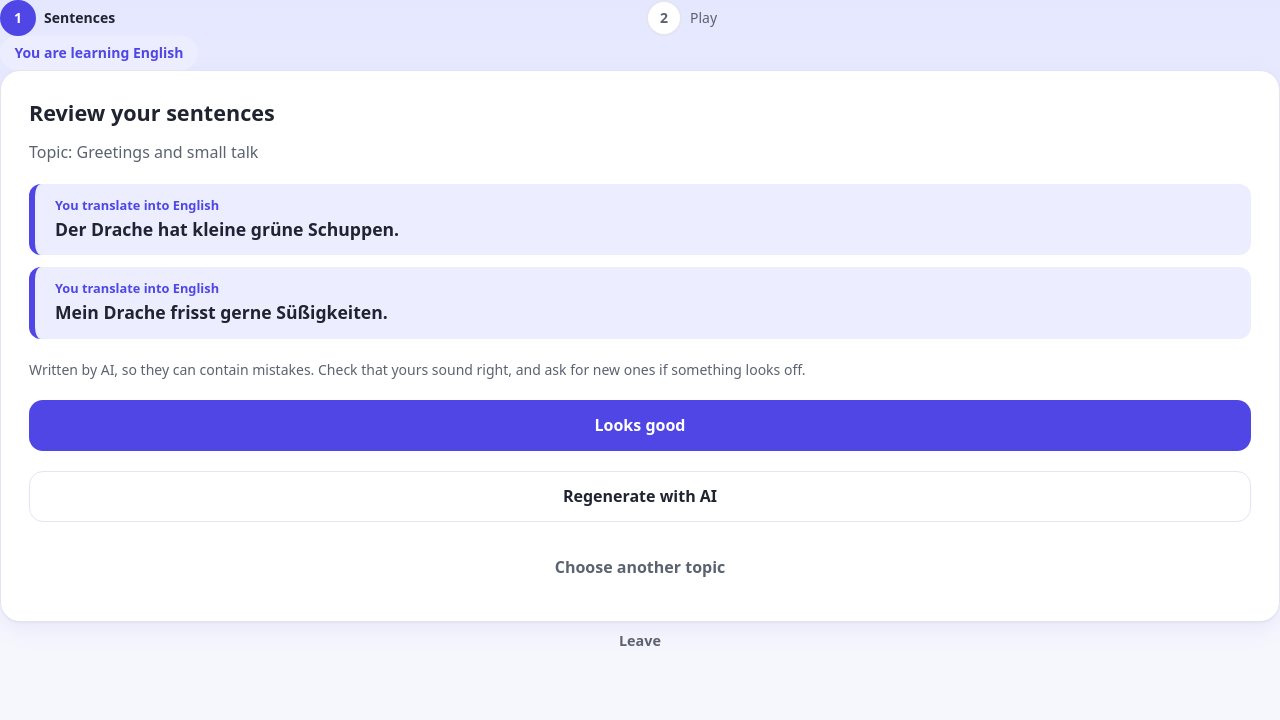
Test: SoloGame › goes back to the topics with Change topic, keeping the options, and plays the new topic
The image size is (1280, 720).
Click the button "Looks good" at (640, 426), box [29,400,1251,451]
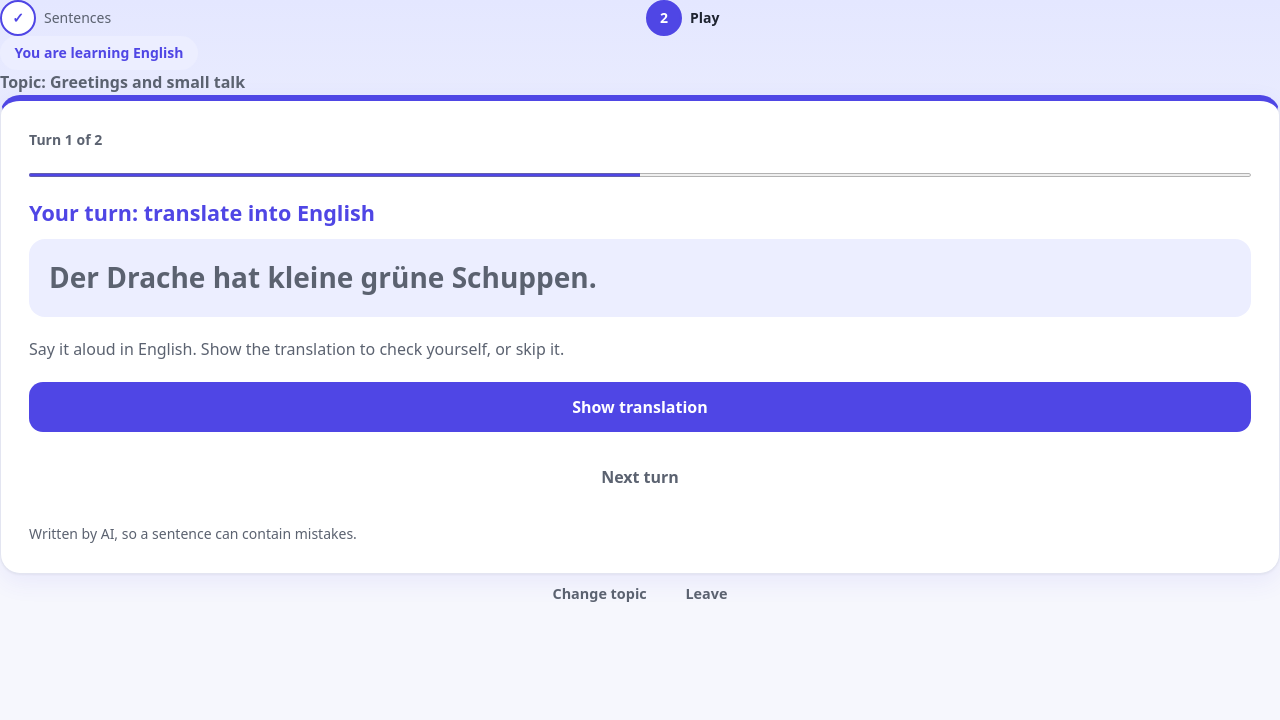
Click the button "Change topic" at (600, 594), box [537,574,662,614]
(page scrolled)
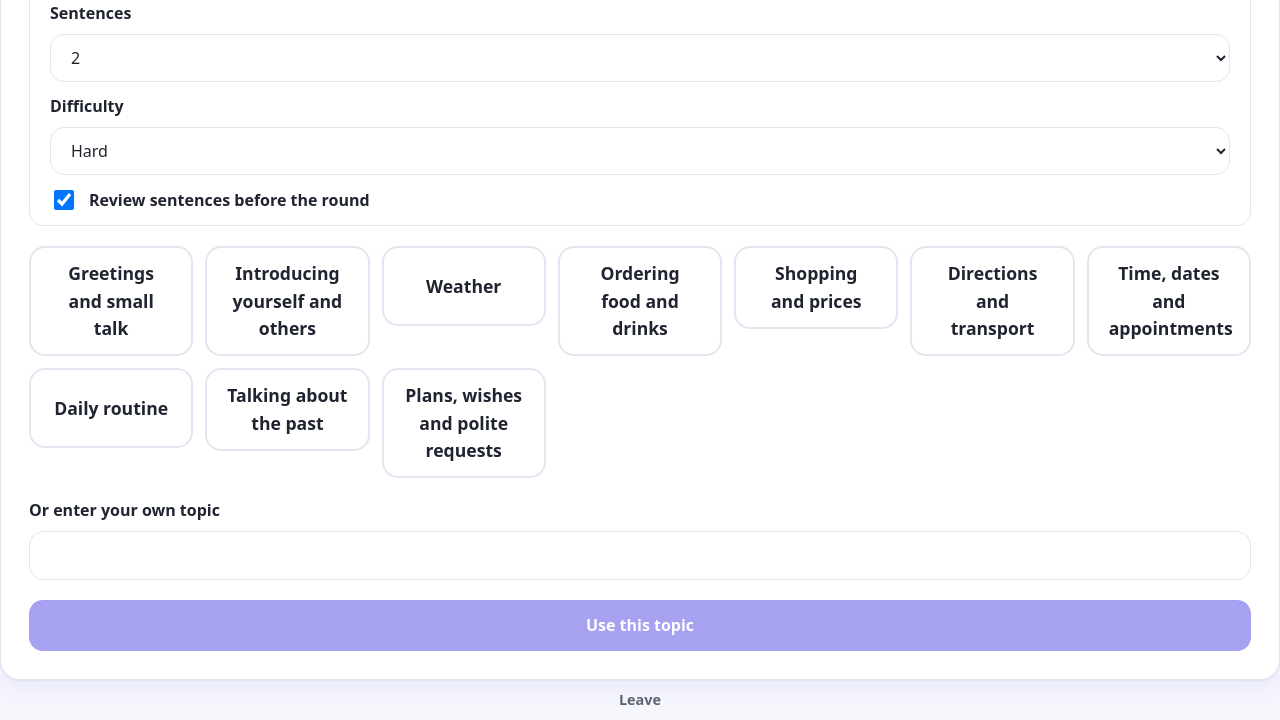
Now the dropdown labelled "Sentences" shows "2", box [50,34,1230,82]
Now the dropdown labelled "Difficulty" shows "Hard", box [50,127,1230,176]
Type "my pet dragon" into the field labelled "Or enter your own topic" at (640, 556), box [29,531,1251,580]
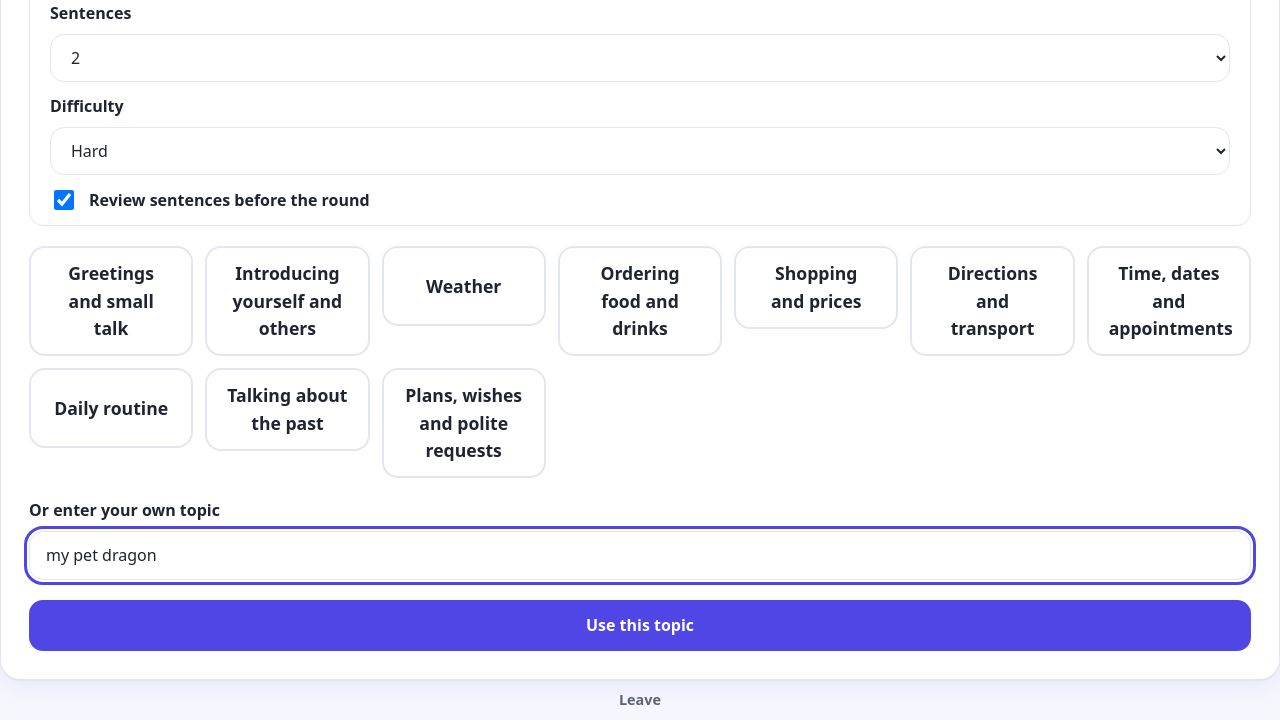
Click the button "Use this topic" at (640, 625), box [29,600,1251,651]
(page scrolled)
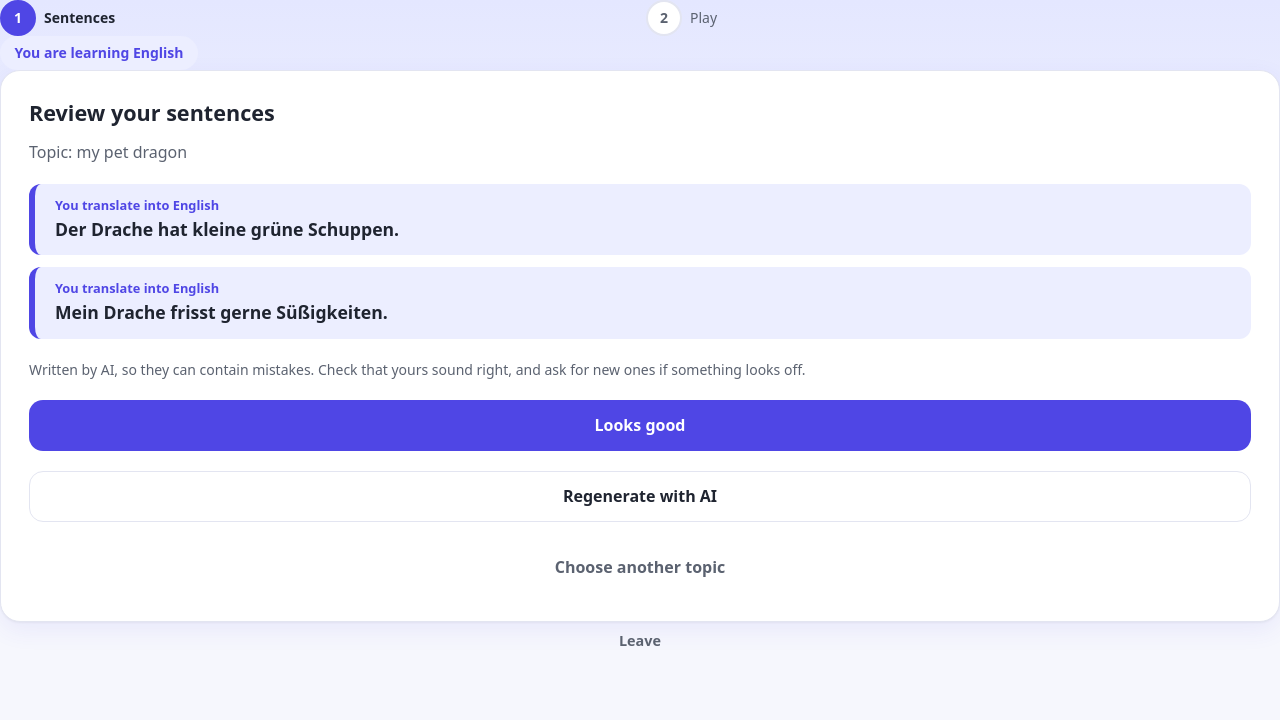
Now the heading "Review your sentences" is shown, box [29,98,275,128]
